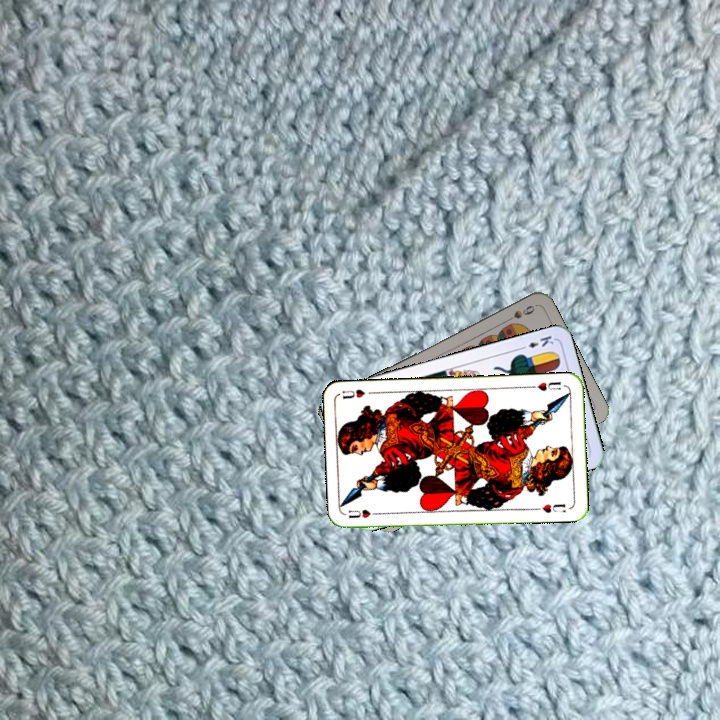EK: (516, 331, 556, 353)
HU: (344, 505, 383, 521), (527, 378, 563, 393)
S9: (500, 301, 537, 326)
